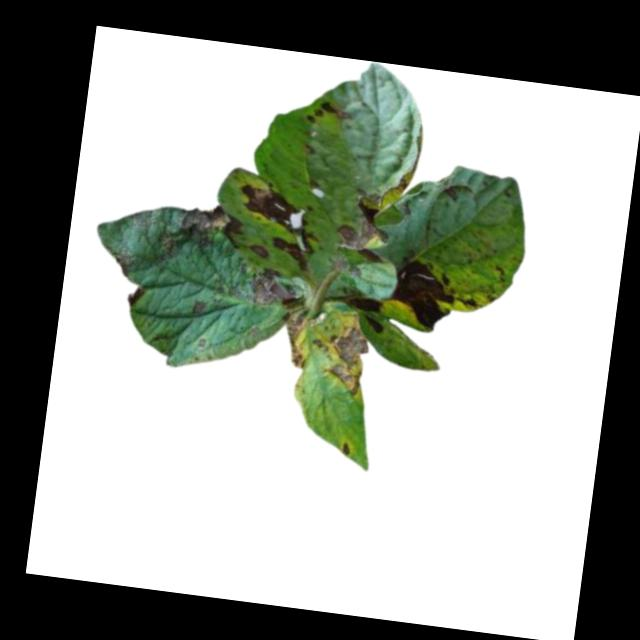Early_blight: (230, 178, 330, 271), (156, 197, 246, 266), (307, 308, 371, 398), (391, 256, 459, 331), (331, 196, 395, 265), (246, 263, 302, 310), (276, 311, 309, 370), (305, 96, 352, 131), (346, 292, 386, 333), (113, 242, 139, 278), (245, 240, 270, 260), (125, 283, 143, 308), (340, 440, 355, 455)
